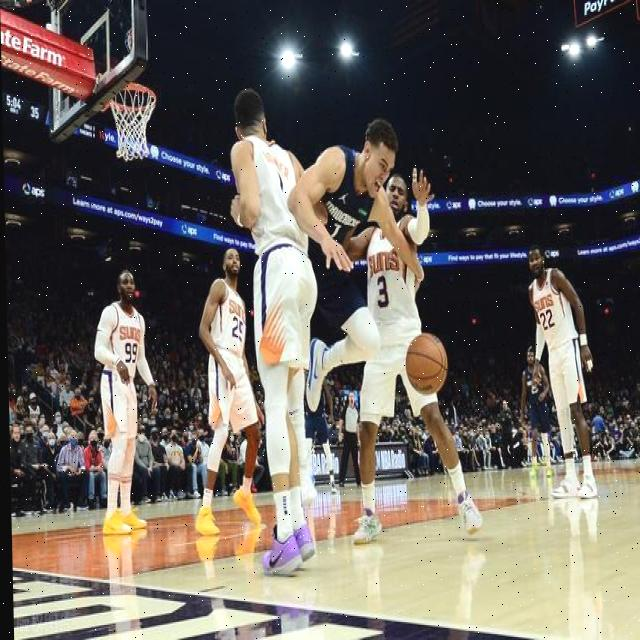basketball: (405, 334, 449, 397)
hoop: (109, 81, 158, 162)
